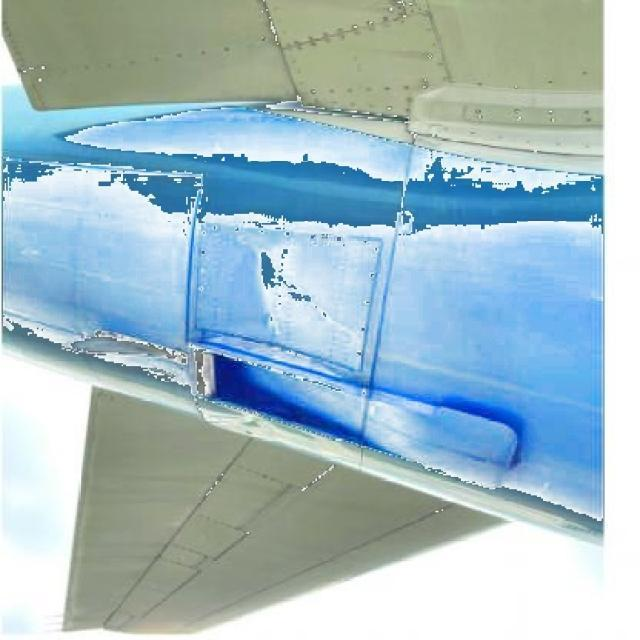dent: (234, 239, 314, 365)
